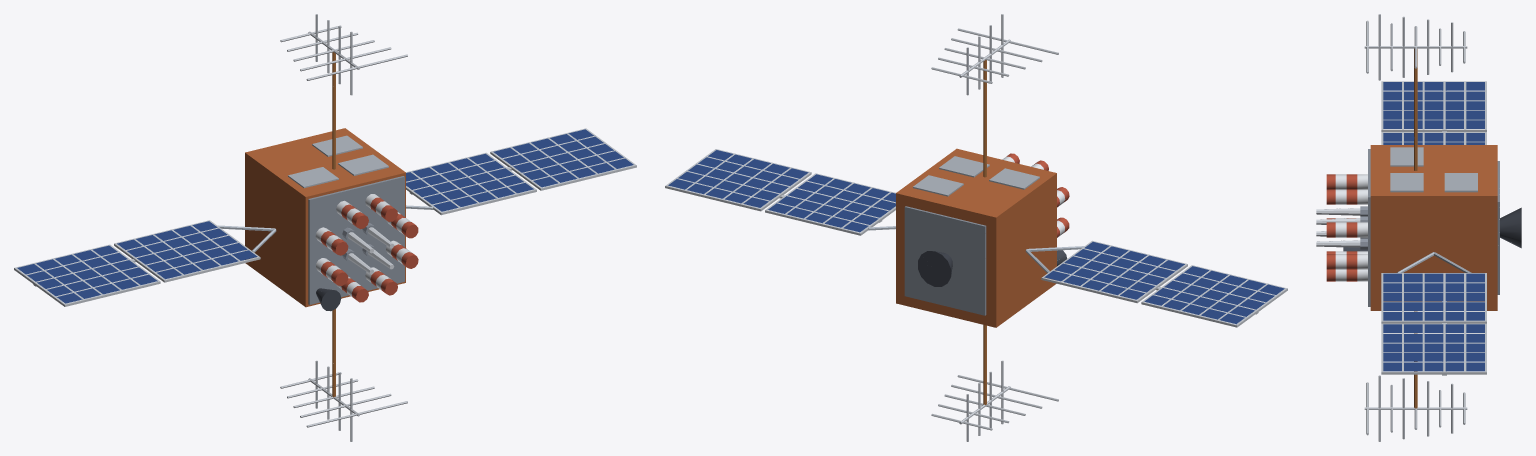
File: gps-iir.glb
The picture shows the model from 3 angles, left to right: view 1: azimuth 30°, elevation 25°; view 2: azimuth 150°, elevation 25°; view 3: azimuth 270°, elevation 25°; orthographic projection. The views are drawn at different scales.
Visible parts, largest first — view 1: body, solar-panel, foil; view 2: body, solar-panel, foil; view 3: body, foil, solar-panel.
Part boxes in pixels (left/top/right/bottom): body: left=14, top=14, right=636, bottom=441; solar-panel: left=17, top=129, right=633, bottom=303; foil: left=245, top=128, right=405, bottom=307; body: left=665, top=14, right=1287, bottom=441; solar-panel: left=668, top=150, right=1284, bottom=324; foil: left=896, top=148, right=1056, bottom=327; body: left=1316, top=14, right=1521, bottom=441; foil: left=1370, top=145, right=1497, bottom=310; solar-panel: left=1383, top=82, right=1484, bottom=371.
Bounding box in the file's own units: 11.4 × 7.8 × 3.4.
